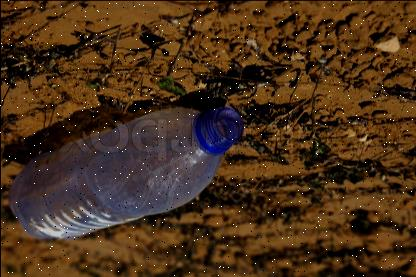Plastic Bottle: (7, 107, 242, 239)
